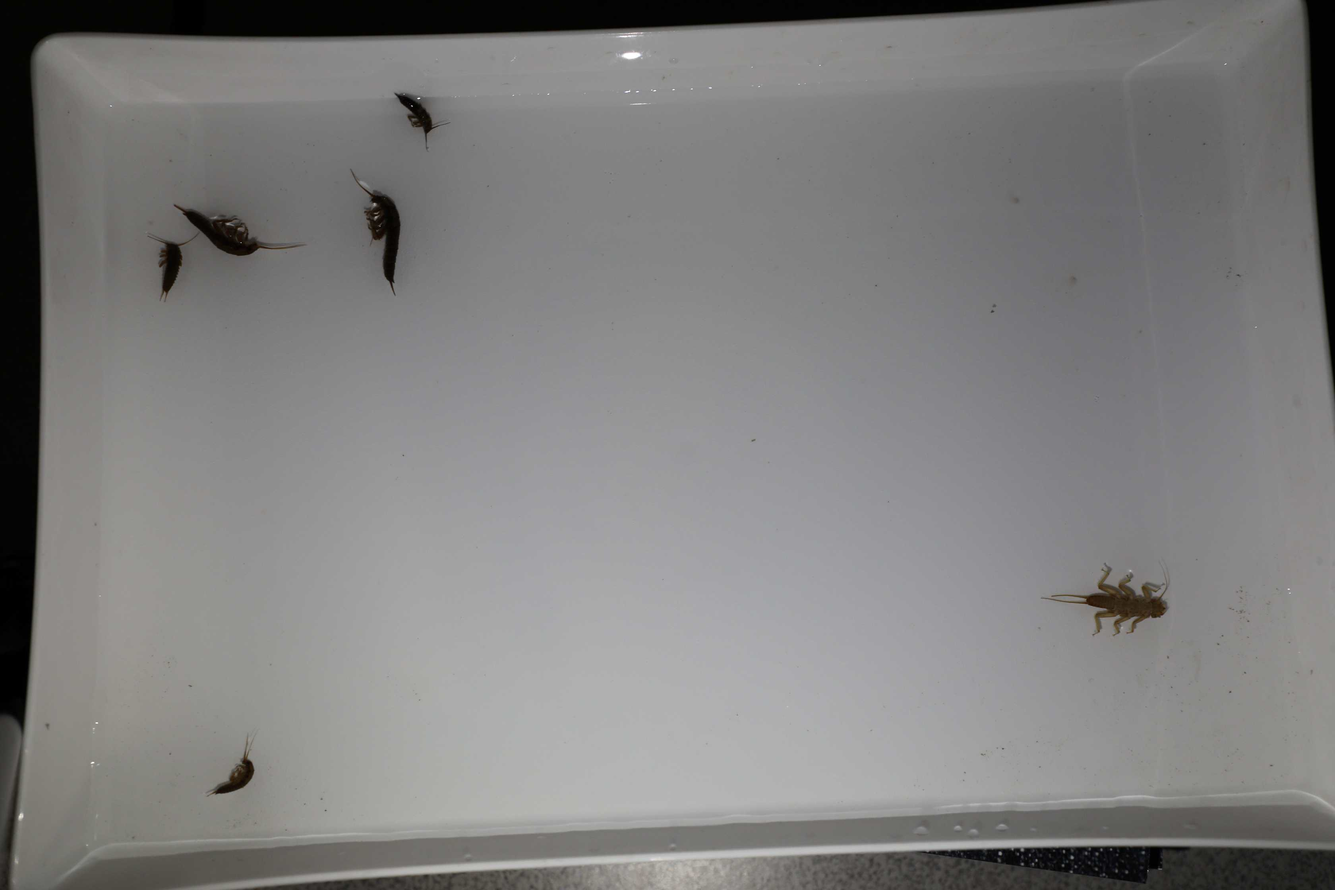Stonefly: (1049, 563, 1169, 644), (175, 200, 310, 254), (350, 172, 405, 297), (203, 728, 259, 804), (390, 88, 446, 155), (145, 231, 196, 304)
